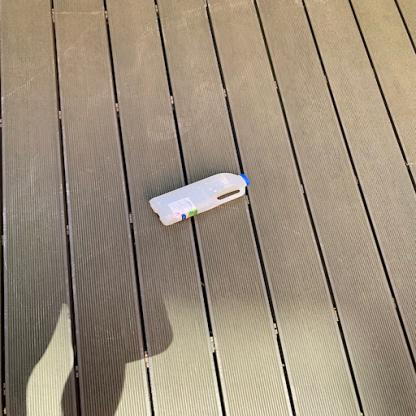trash: (149, 171, 252, 229)
